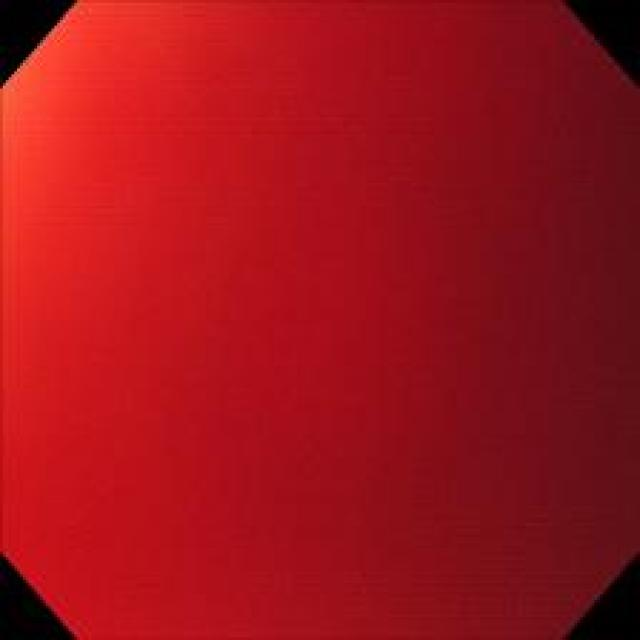color misalignment: (1, 5, 636, 631)
